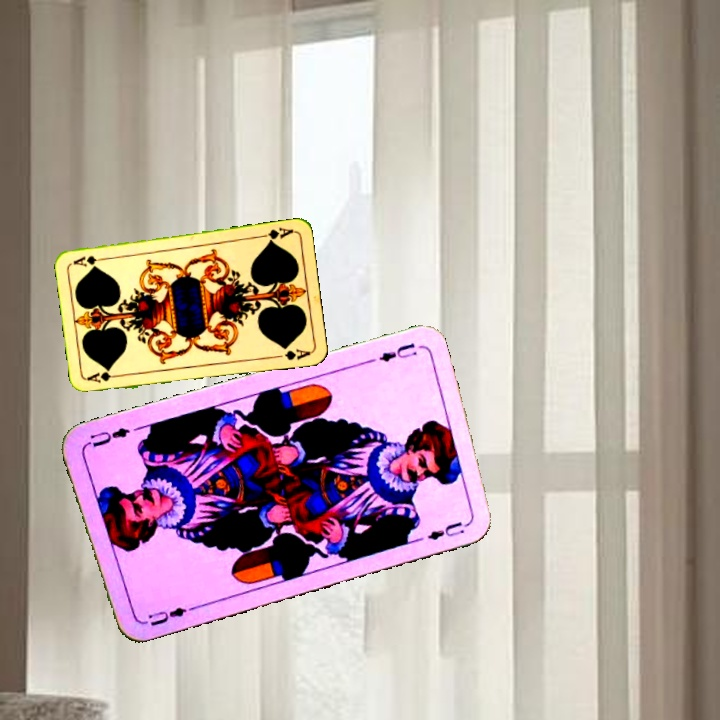EU: (136, 603, 194, 629), (375, 339, 420, 365)
GA: (255, 223, 296, 245), (84, 368, 125, 385)
